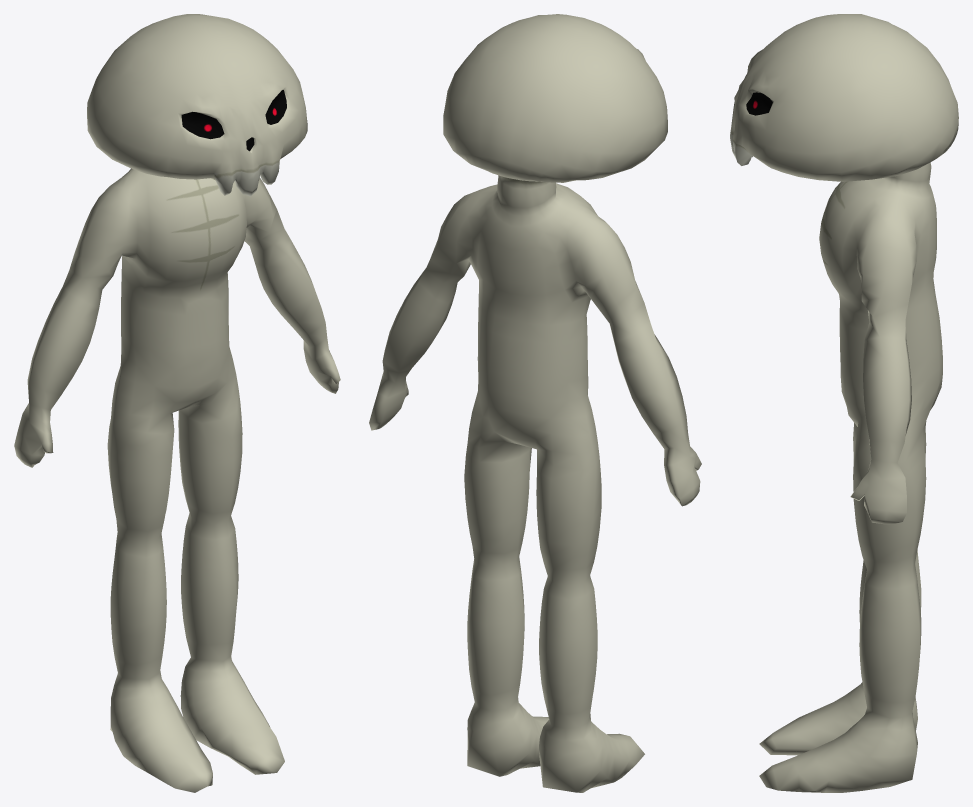
Rendered from boss.fbx.
3 renders of one model, left to right at view 1: azimuth 30°, elevation 25°; view 2: azimuth 150°, elevation 25°; view 3: azimuth 270°, elevation 25°, orthographic.
Parts seen in each view (by area): view 1: polySurface40; view 2: polySurface40; view 3: polySurface40.
Part boxes in pixels (x1,y1,x2,y2): polySurface40: (14, 14, 340, 792); polySurface40: (369, 14, 701, 792); polySurface40: (730, 14, 958, 792).
Size of the model in its own units: 2.92 by 6.54 by 1.82.
